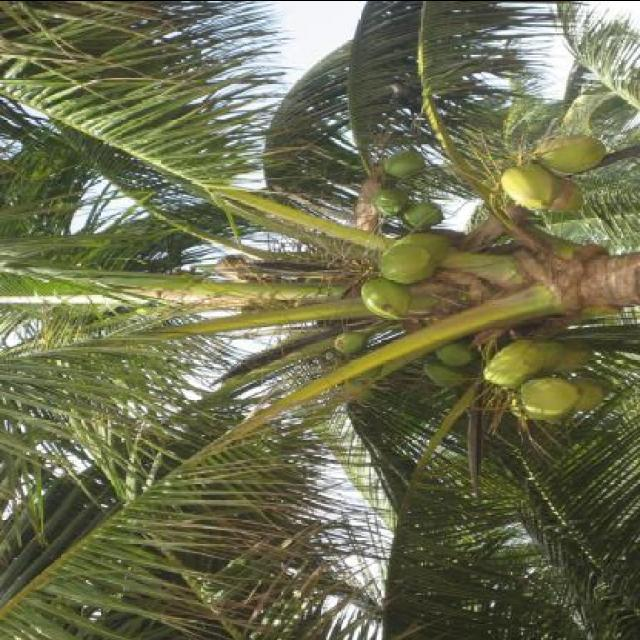Coconut: (478, 336, 614, 419), (480, 337, 611, 421), (499, 132, 607, 212), (358, 230, 454, 318), (495, 134, 607, 208), (356, 232, 448, 321), (332, 328, 386, 402), (335, 332, 383, 401), (422, 338, 476, 389), (420, 338, 477, 386), (382, 146, 424, 182), (382, 148, 424, 178), (402, 200, 444, 228), (401, 201, 444, 227), (372, 186, 406, 217), (372, 186, 408, 214)
